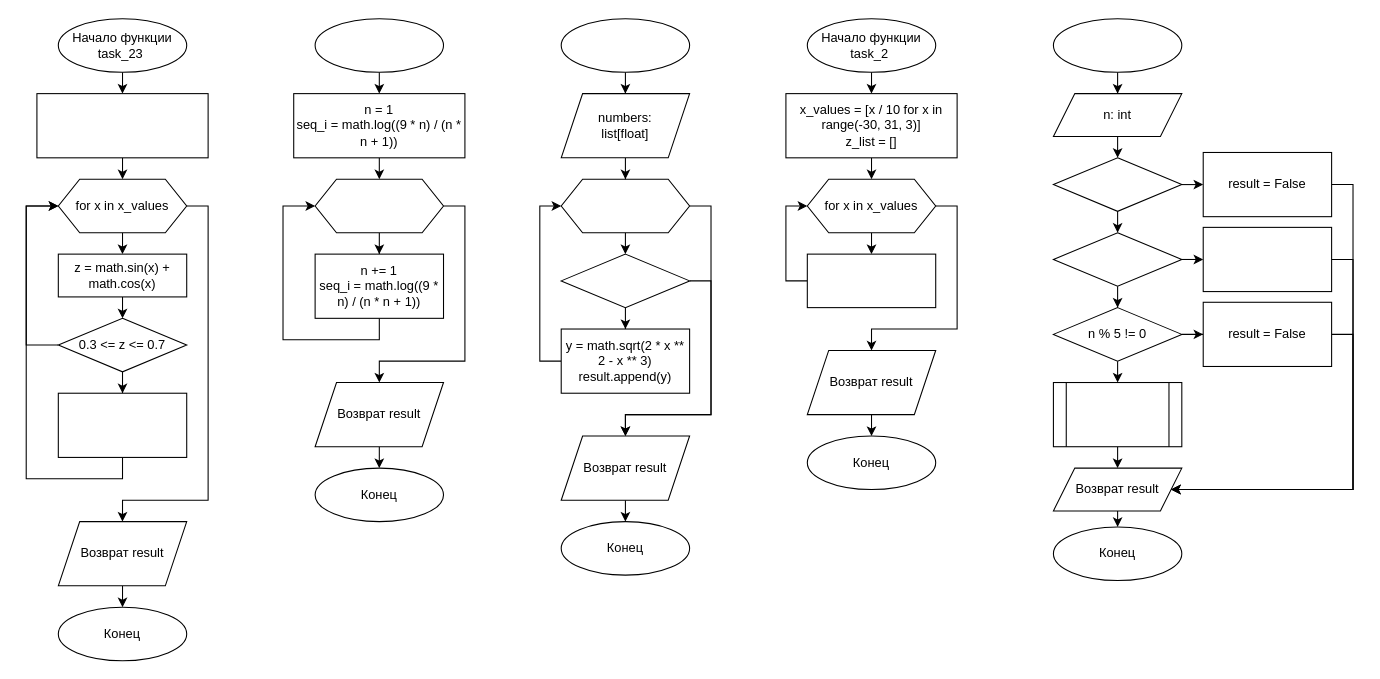
Some shapes in this 1380 by 679 pixel diagram are drawn without their labels. Here are the shapes that lost their labels. From the top down, the centre of each, then its label:
the point at 379,45: Начало функции task_26
the point at 625,45: Начало функции task_29
the point at 1117,45: Начало функции task_5
the point at 122,125: x_values = [ x / 100 for x in range(-400, 601, 91)] z_list = []
the point at 1117,184: n == 0
the point at 379,205: while seq_i >= 0:
the point at 625,205: for x in numbers
the point at 1117,259: n == 1
the point at 1267,259: result = True
the point at 625,280: 0 <= x <= 2
the point at 871,280: z = math.tan(2 * x) - math.sin(x) z_list.append*(z)
the point at 122,424: z_list.append(z)
the point at 1117,414: result = task_5(n // 5)
